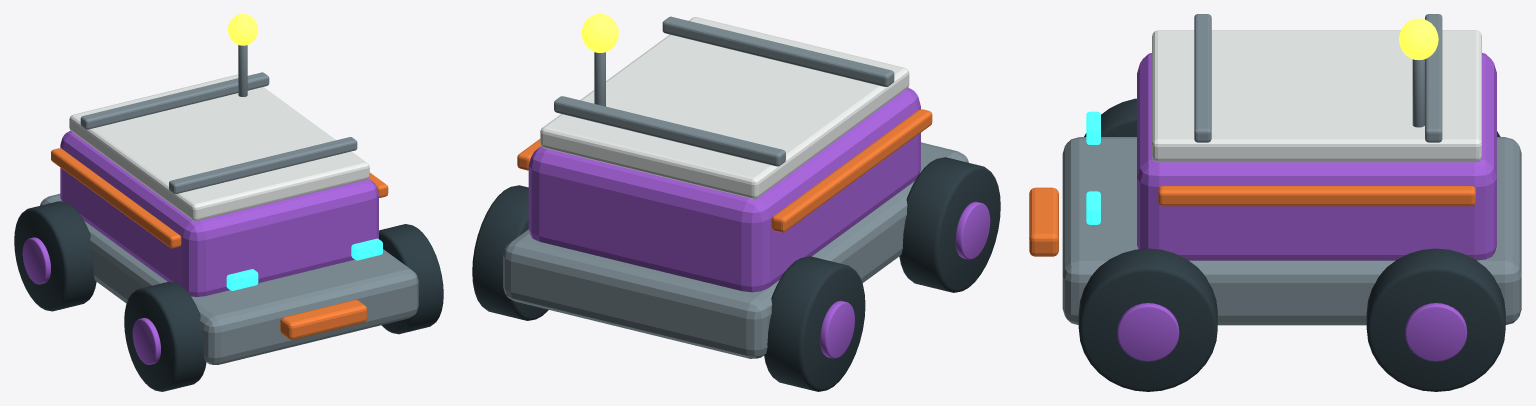
File: Rover.fbx
The picture shows the model from 3 angles, left to right: view 1: azimuth 30°, elevation 25°; view 2: azimuth 150°, elevation 25°; view 3: azimuth 270°, elevation 25°; orthographic projection. The views are drawn at different scales.
Parts seen in each view (by area): view 1: Rover_CargoBody, Rover_TopLid, Rover_Chassis, Rover_Wheel, Rover_Wheel.001, Rover_Wheel.002, Rover_LidRail, Rover_LidRail.001, Rover_SideRail, Rover_FrontTow, Rover_Hub.001, Rover_Hub (+4 smaller); view 2: Rover_CargoBody, Rover_TopLid, Rover_Chassis, Rover_Wheel, Rover_Wheel.001, Rover_Wheel.003, Rover_LidRail, Rover_LidRail.001, Rover_SideRail, Rover_Hub, Rover_Hub.001, Rover_Beacon (+1 smaller); view 3: Rover_TopLid, Rover_CargoBody, Rover_Chassis, Rover_Wheel.003, Rover_Wheel.002, Rover_SideRail.001, Rover_Hub.002, Rover_Hub.003, Rover_LidRail, Rover_FrontTow, Rover_LidRail.001, Rover_Beacon (+4 smaller).
Part boxes in pixels (x1,y1,x2,y2): Rover_CargoBody: (60, 130, 378, 296); Rover_TopLid: (69, 74, 369, 221); Rover_Chassis: (40, 193, 418, 364); Rover_Wheel: (124, 281, 206, 391); Rover_Wheel.001: (14, 201, 96, 311); Rover_Wheel.002: (379, 224, 443, 334); Rover_LidRail: (169, 137, 357, 193); Rover_LidRail.001: (80, 72, 269, 129); Rover_SideRail: (51, 148, 181, 248); Rover_FrontTow: (280, 300, 367, 339); Rover_Hub.001: (22, 237, 50, 284); Rover_Hub: (132, 318, 160, 364); Rover_CargoBody: (528, 87, 920, 292); Rover_TopLid: (540, 17, 909, 199); Rover_Chassis: (503, 142, 968, 358); Rover_Wheel: (899, 157, 1000, 292); Rover_Wheel.001: (764, 256, 865, 391); Rover_Wheel.003: (472, 185, 548, 320); Rover_LidRail: (662, 16, 894, 86); Rover_LidRail.001: (554, 96, 785, 166); Rover_SideRail: (771, 109, 932, 232); Rover_Hub: (955, 201, 990, 259); Rover_Hub.001: (820, 300, 854, 358); Rover_Beacon: (581, 14, 618, 52); Rover_TopLid: (1152, 30, 1481, 162); Rover_CargoBody: (1137, 53, 1496, 260); Rover_Chassis: (1062, 137, 1521, 325); Rover_Wheel.003: (1366, 248, 1505, 391); Rover_Wheel.002: (1078, 248, 1217, 391); Rover_SideRail.001: (1158, 186, 1475, 206); Rover_Hub.002: (1117, 303, 1179, 361); Rover_Hub.003: (1405, 303, 1467, 361); Rover_LidRail: (1194, 14, 1211, 142); Rover_FrontTow: (1029, 187, 1058, 256); Rover_LidRail.001: (1425, 14, 1442, 142); Rover_Beacon: (1399, 18, 1438, 59).
Bounding box in the file's own units: 1.7 × 1.46 × 1.99.
